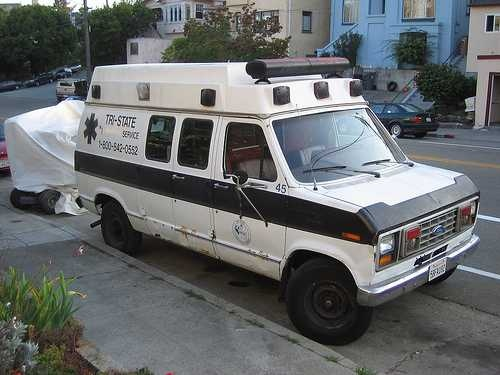Ambulance: (71, 59, 488, 321)
